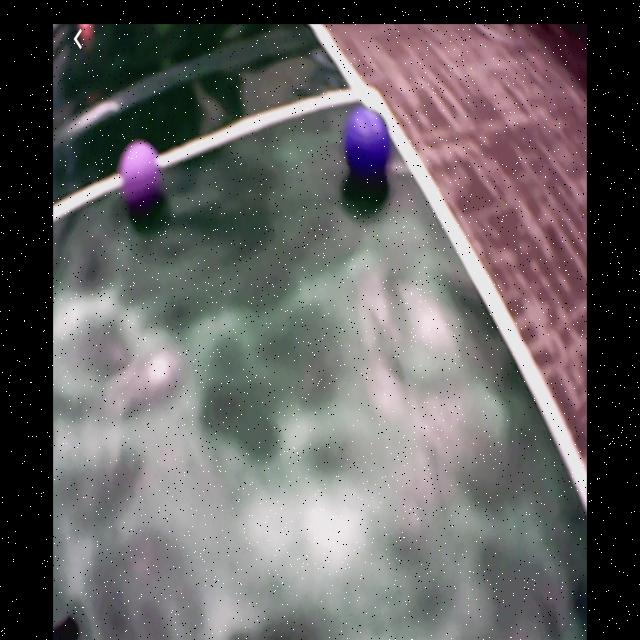ball: (343, 110, 391, 175), (122, 139, 162, 203)
